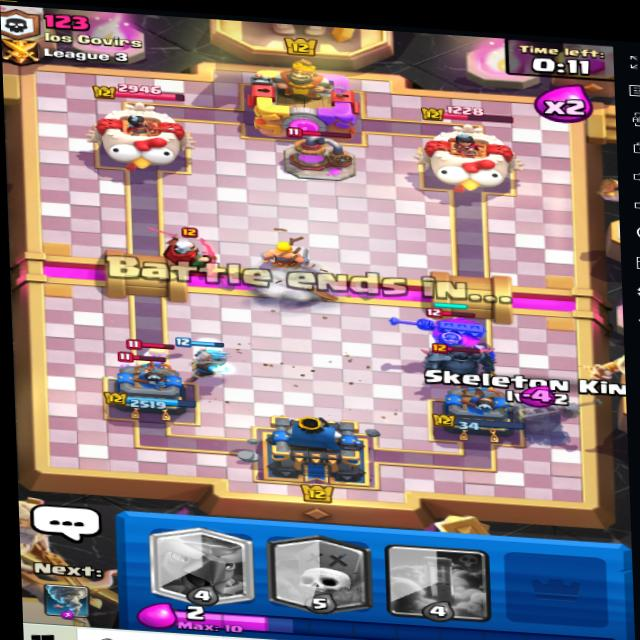barbarian: (114, 338, 186, 370), (113, 356, 176, 381)
elixir-collector: (278, 123, 371, 193)
magic-archer: (142, 225, 223, 277)
pekka: (418, 341, 506, 393)
skeleton-king: (384, 297, 508, 361)
